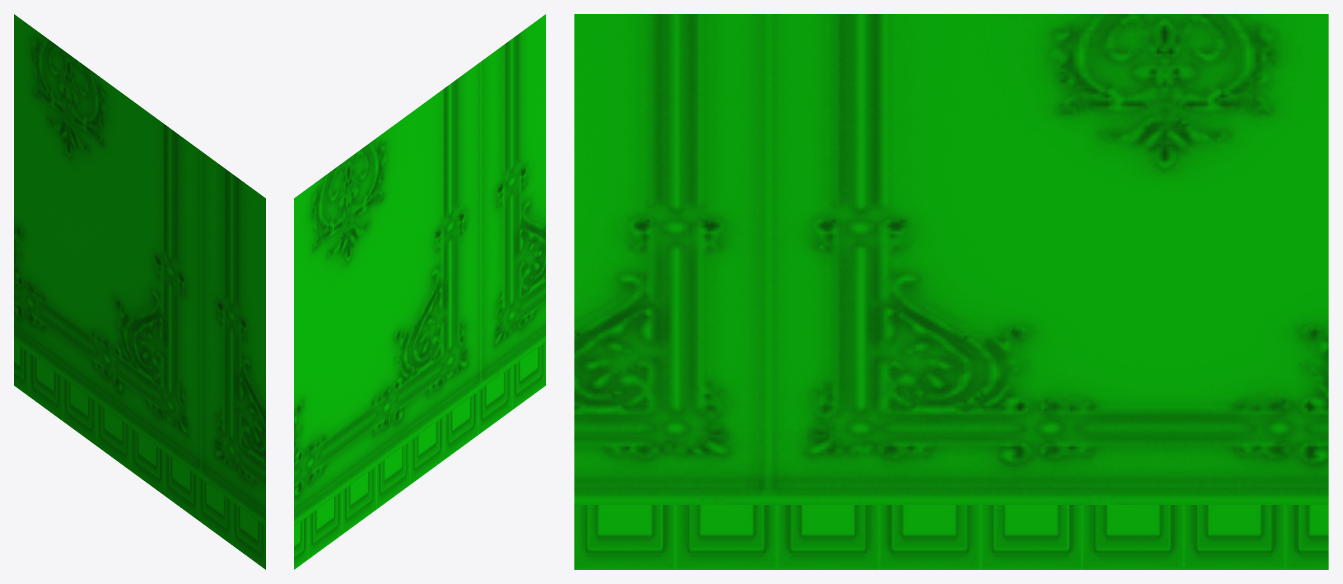
The picture shows the model from 3 angles, left to right: view 1: azimuth 30°, elevation 25°; view 2: azimuth 150°, elevation 25°; view 3: azimuth 270°, elevation 25°; orthographic projection. The views are drawn at different scales.
Parts seen in each view (by area): view 1: 복도 벽 1; view 2: 복도 벽 1; view 3: 복도 벽 1.
Boxes of the visible parts, x1=… form: 복도 벽 1: x1=14, y1=14, x2=265, y2=569; 복도 벽 1: x1=294, y1=14, x2=545, y2=569; 복도 벽 1: x1=574, y1=14, x2=1328, y2=569.
Bounding box in the file's own units: 0 × 198 × 243.
